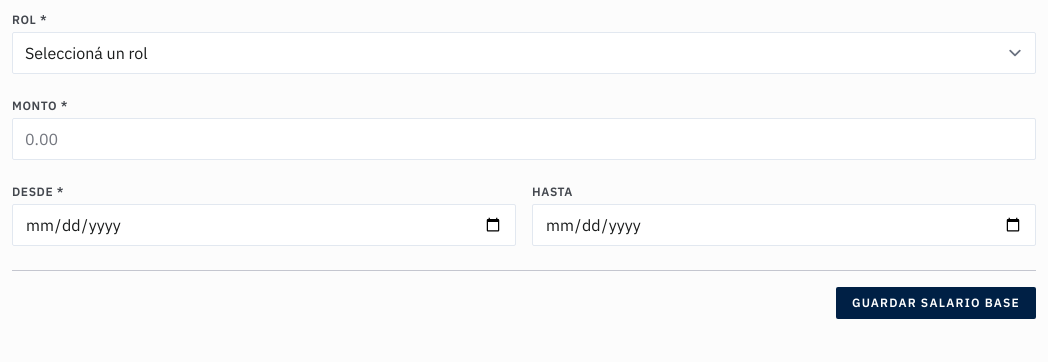
Scenario: SalarioBaseForm — alta y validaciones › validación de vigencia: desde >= hasta bloquea envío
Select "PROFESOR" in the dropdown at [524, 53], box [12,32,1036,74]
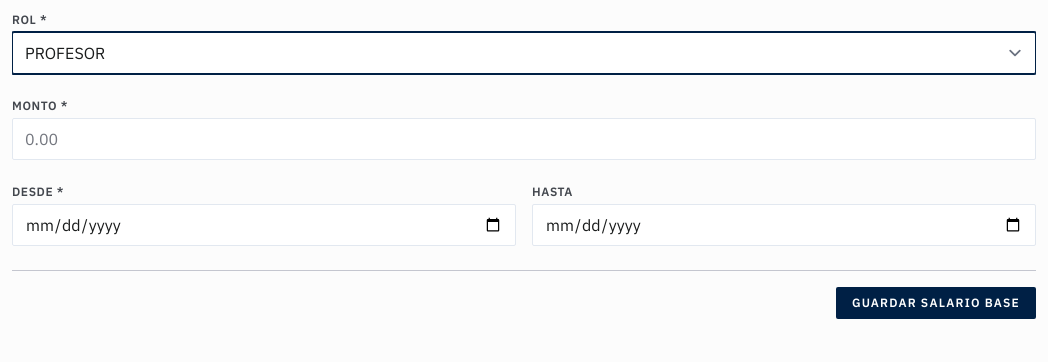
Type "80000" into the number field with placeholder "0.00".
click(524, 139); type("80000")  # box [12,118,1036,160]
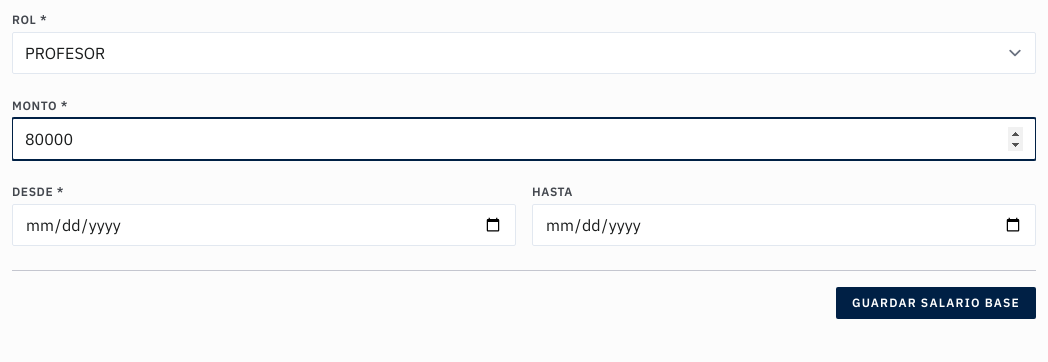
Type "2024-06-01" into the date field below "Desde *".
click(264, 225); type("2024-06-01")  # box [12,204,516,246]
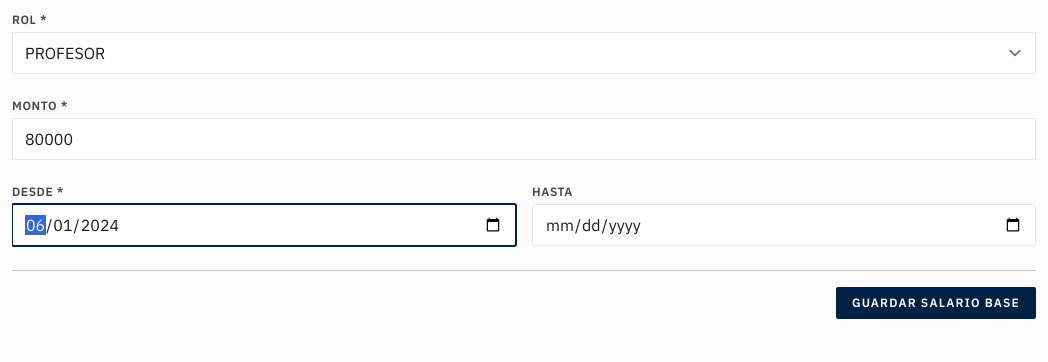
Type "2024-01-01" into the date field below "Hasta".
click(784, 225); type("2024-01-01")  # box [532,204,1036,246]
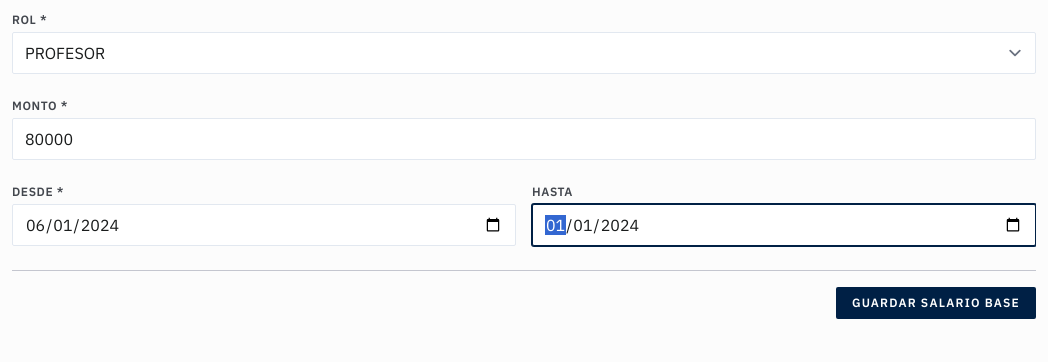
Click the button "Guardar salario base".
click(936, 303)  # box [836,287,1036,319]
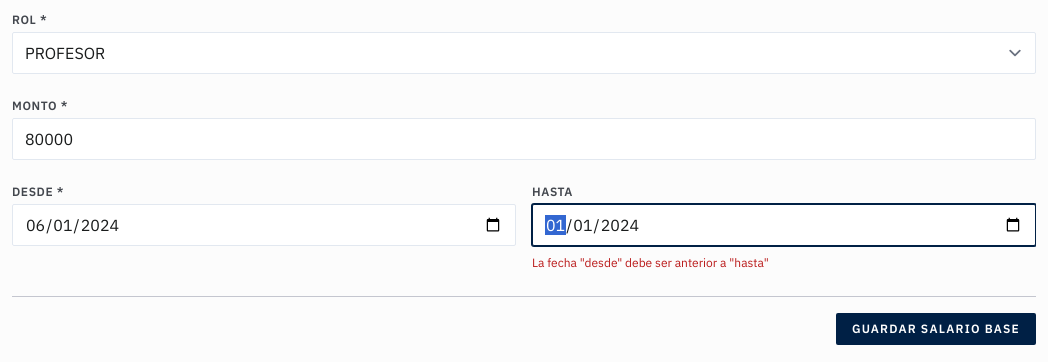
expect the text "La fecha \"desde\" debe ser anterior a \"hasta\"" is shown: met, box [532,255,769,270]
